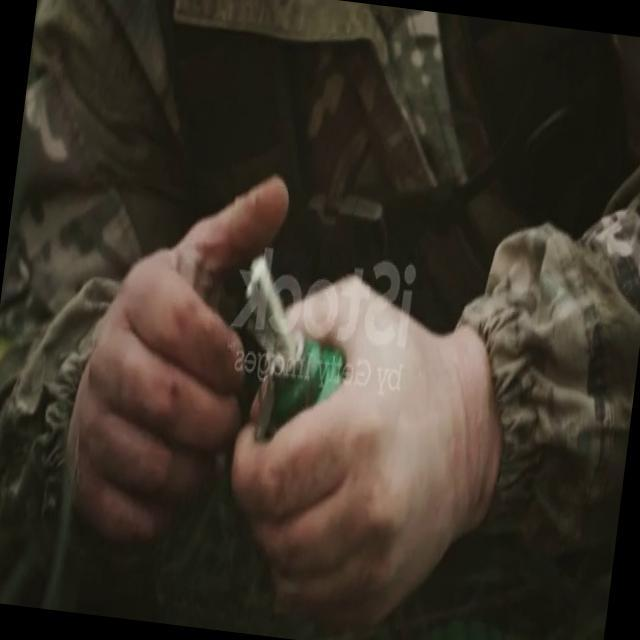grenade: (224, 246, 343, 439)
